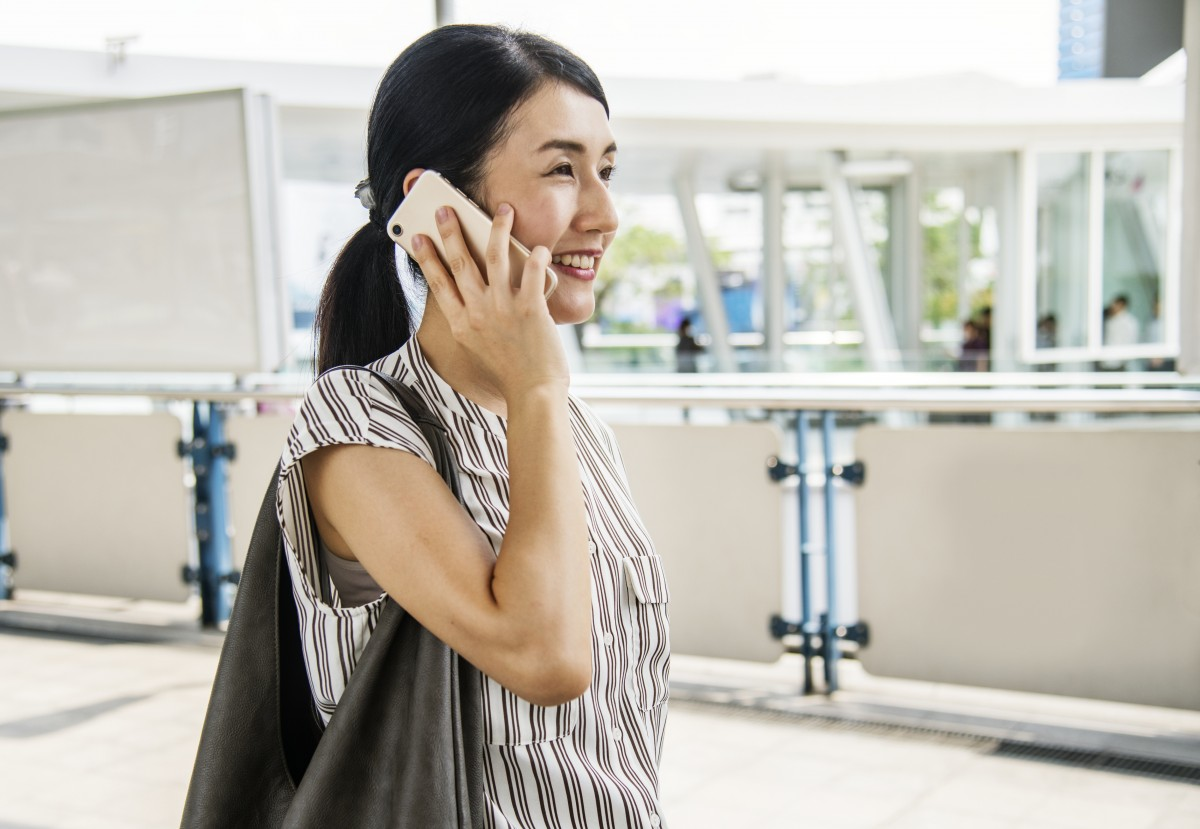phone: (373, 181, 560, 330)
talk: (386, 124, 624, 396)
